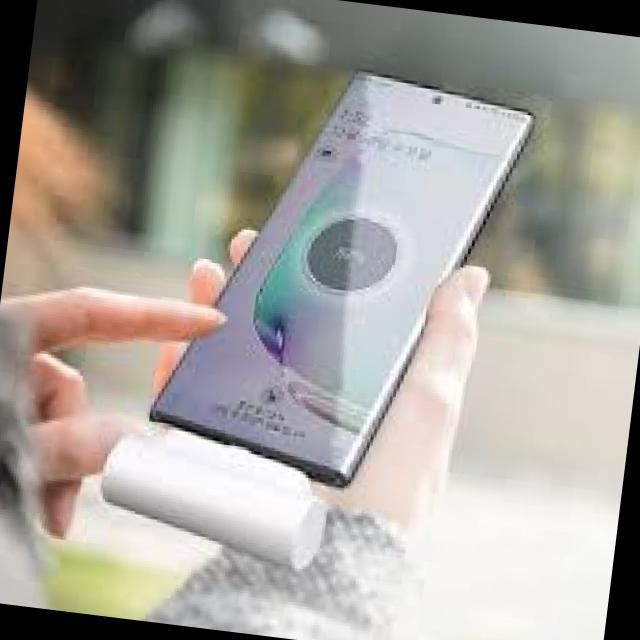power_bank: (95, 414, 338, 577)
